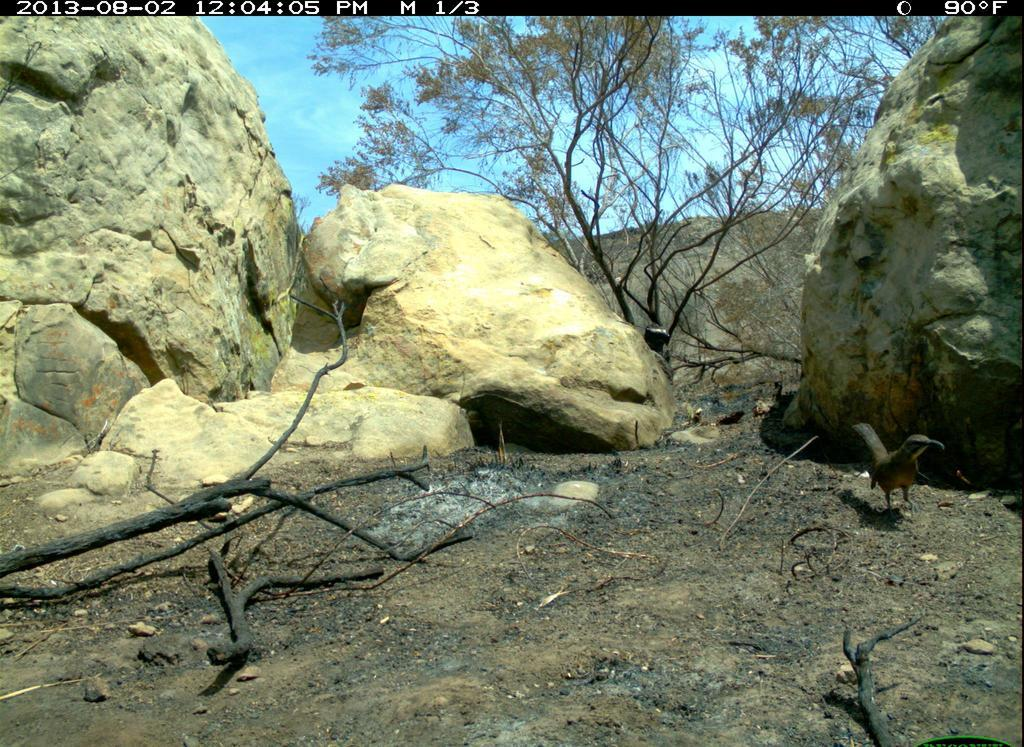bird: (852, 415, 954, 532)
